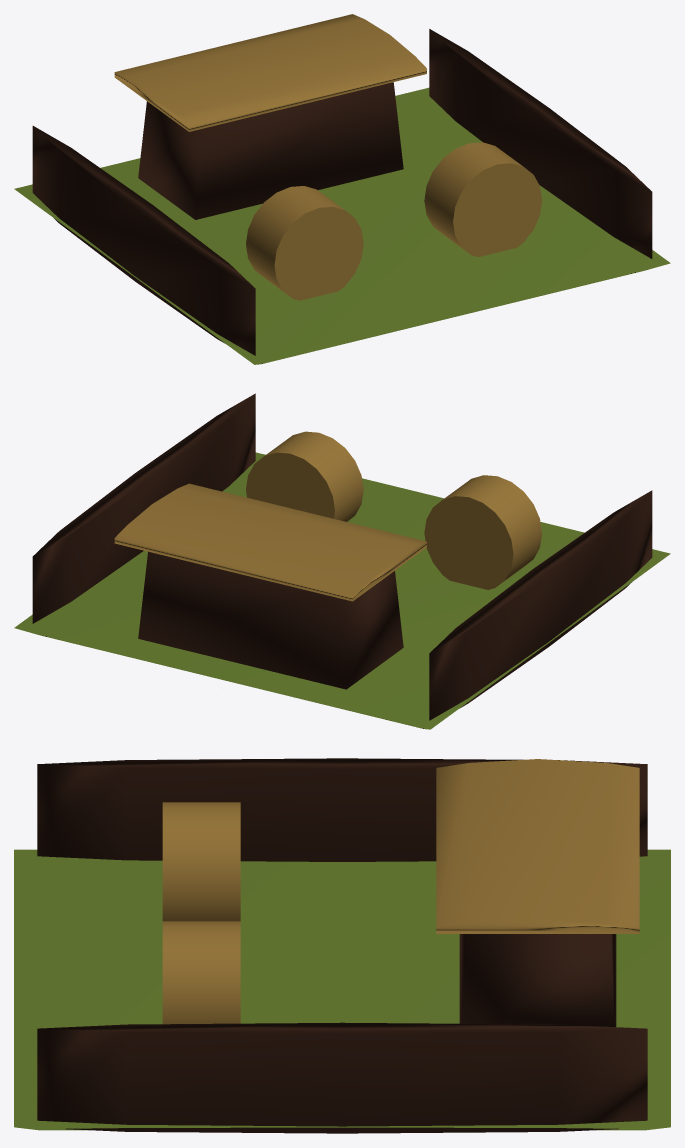
File: R33_HAN_AGRICULTURE_PASTURE_PRODUCTION_A.fbx
3 renders of one model, top to bottom at view 1: azimuth 30°, elevation 25°; view 2: azimuth 150°, elevation 25°; view 3: azimuth 270°, elevation 25°, orthographic. The views are drawn at different scales.
Parts seen in each view (by area): view 1: grass, shelter, shelter_roof, fence_e, fence_w, hay_2, hay_1; view 2: grass, shelter, shelter_roof, fence_e, fence_w, hay_2, hay_1; view 3: grass, fence_w, fence_e, shelter_roof, shelter, hay_2, hay_1.
Part boxes in pixels (<box>): grass: <box>14,87,670,364</box>; shelter: <box>138,82,403,219</box>; shelter_roof: <box>114,14,426,131</box>; fence_e: <box>32,126,255,355</box>; fence_w: <box>429,29,652,258</box>; hay_2: <box>246,186,363,300</box>; hay_1: <box>424,142,542,257</box>; grass: <box>14,452,670,729</box>; shelter: <box>138,551,403,689</box>; shelter_roof: <box>114,483,426,601</box>; fence_e: <box>429,490,652,720</box>; fence_w: <box>32,393,255,623</box>; hay_2: <box>424,475,542,589</box>; hay_1: <box>246,431,363,521</box>; grass: <box>14,849,670,1130</box>; fence_w: <box>37,1022,647,1133</box>; fence_e: <box>37,758,647,861</box>; shelter_roof: <box>436,759,639,933</box>; shelter: <box>459,934,616,1026</box>; hay_2: <box>162,802,240,921</box>; hay_1: <box>162,921,240,1024</box>.
Size of the model in its own units: 84 by 23.19 by 84.
